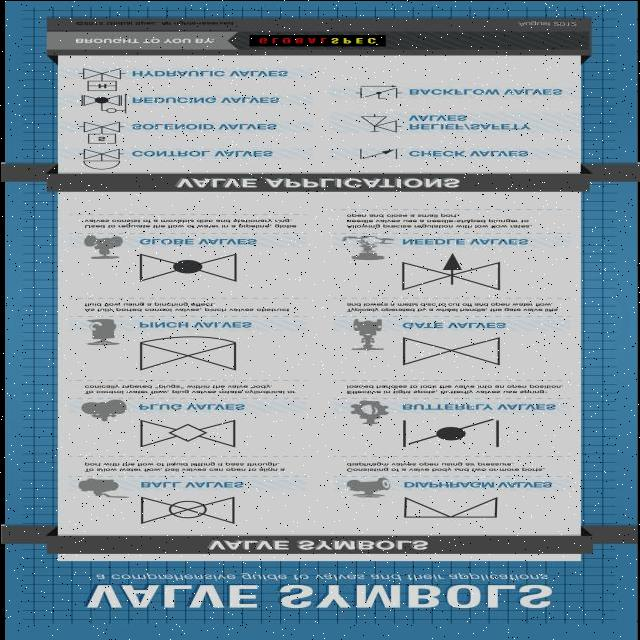Ball Valve: (126, 493, 244, 528)
Butterfly Valve: (392, 413, 518, 452)
Diaphragm Valve: (402, 495, 504, 523)
Gate Valve: (392, 333, 510, 367)
Globe Valve: (128, 250, 242, 286)
Needle Valve: (392, 250, 516, 294)
Plug Valve: (120, 415, 254, 450)
